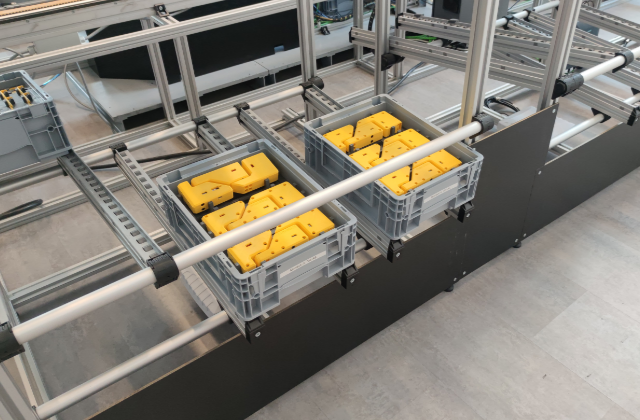Box: (155, 137, 356, 323), (303, 92, 485, 239), (0, 65, 72, 181)
